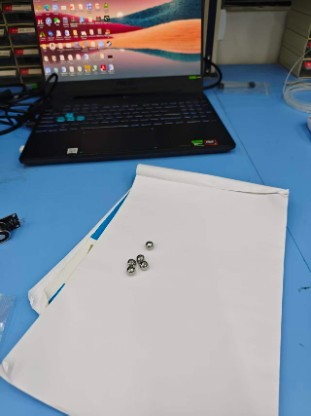ironball: (138, 259, 147, 267), (144, 240, 152, 248), (135, 254, 143, 262), (127, 265, 133, 273), (127, 258, 134, 264)
